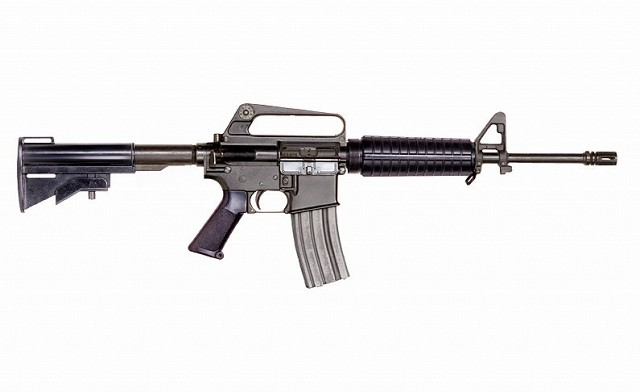Arma Real: (10, 104, 625, 291)
